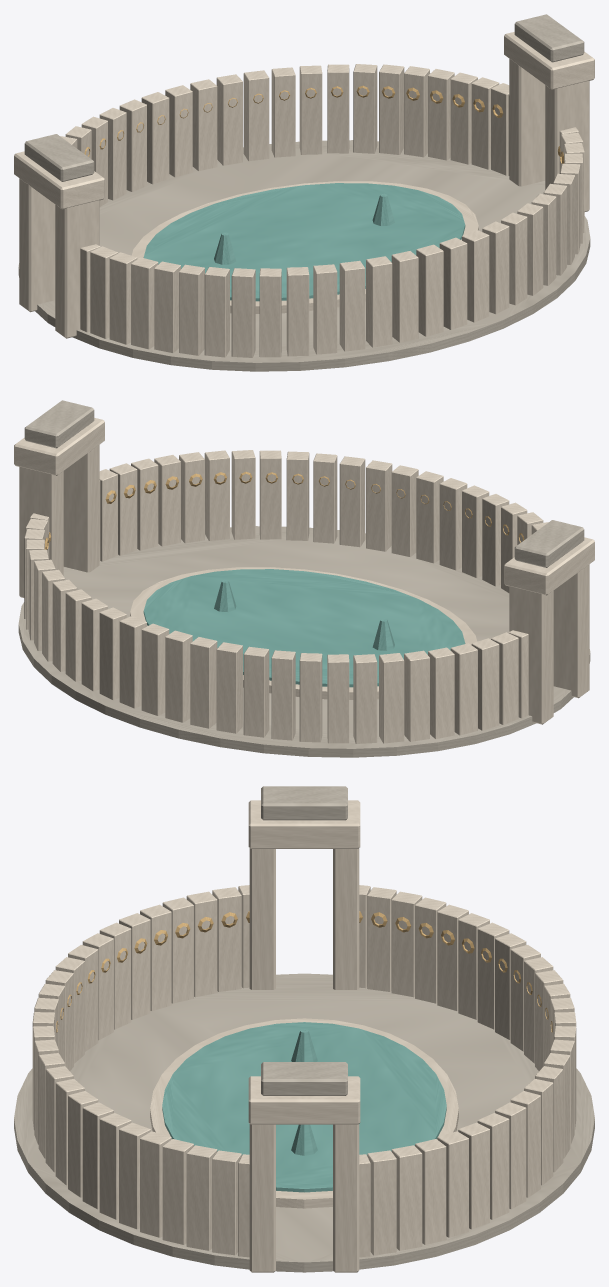
File: wwii-memorial.glb
3 renders of one model, top to bottom at view 1: azimuth 30°, elevation 25°; view 2: azimuth 150°, elevation 25°; view 3: azimuth 270°, elevation 25°, orthographic. The views are drawn at different scales.
Visible parts, largest first — view 1: wwii-memorial; view 2: wwii-memorial; view 3: wwii-memorial.
Boxes of the visible parts, bbox=[...] form: wwii-memorial: bbox=[14, 14, 594, 371]; wwii-memorial: bbox=[14, 400, 594, 757]; wwii-memorial: bbox=[14, 786, 594, 1272].
Size of the model in its own units: 11.45 by 3.47 by 9.35.
1 material, 1 textured.
